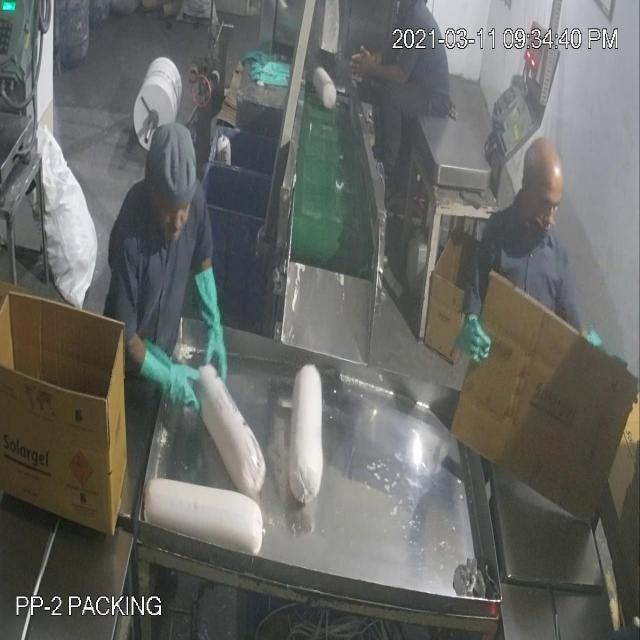Gloves: (42, 60, 382, 370)
